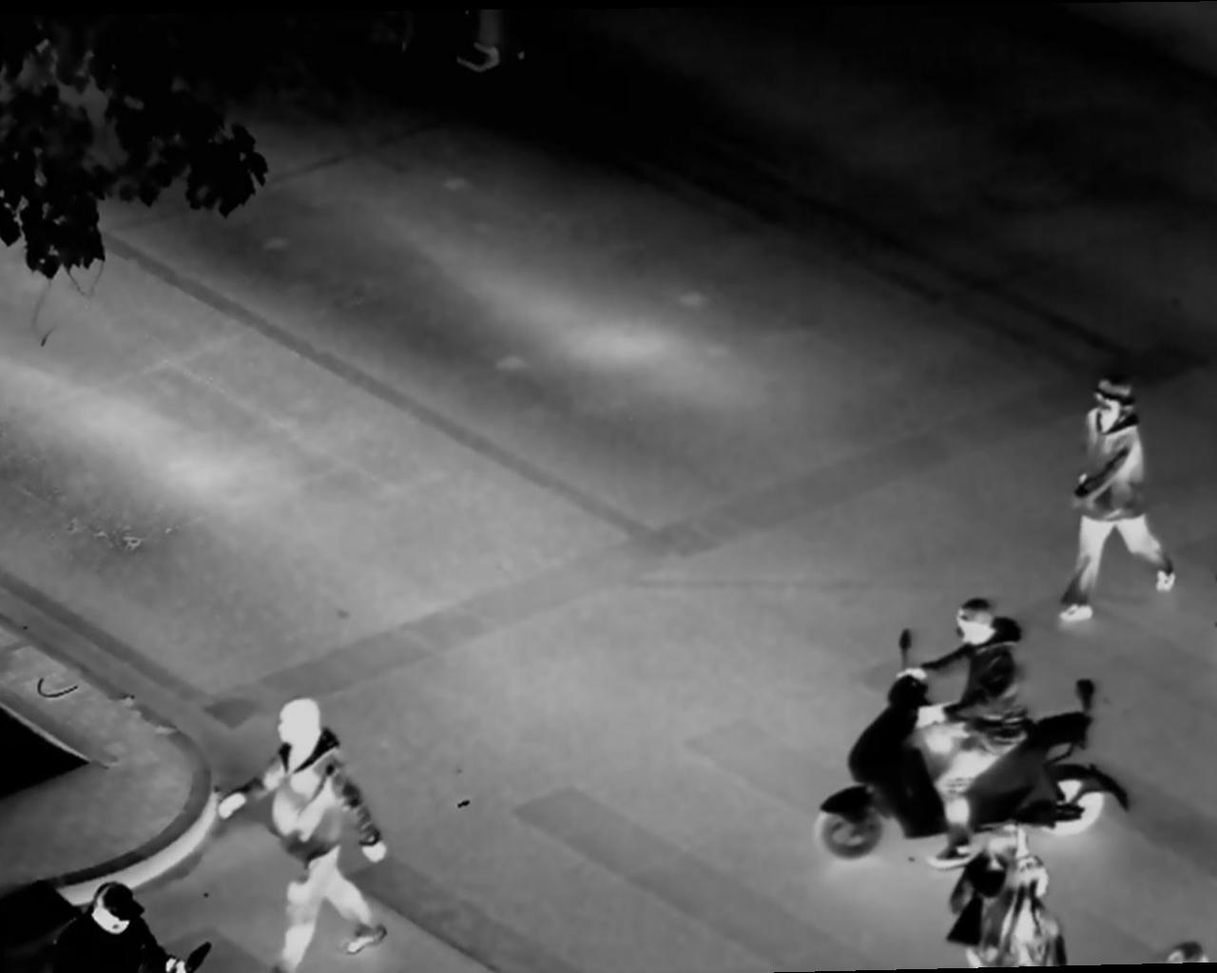person: (212, 685, 388, 973), (1053, 375, 1189, 639), (909, 602, 1050, 830), (950, 833, 1026, 973), (990, 857, 1071, 973)
